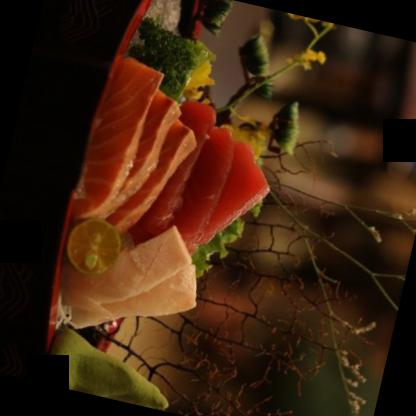salmon: (63, 47, 163, 230), (100, 111, 200, 247), (102, 82, 184, 230)
tuna: (166, 132, 264, 266)
